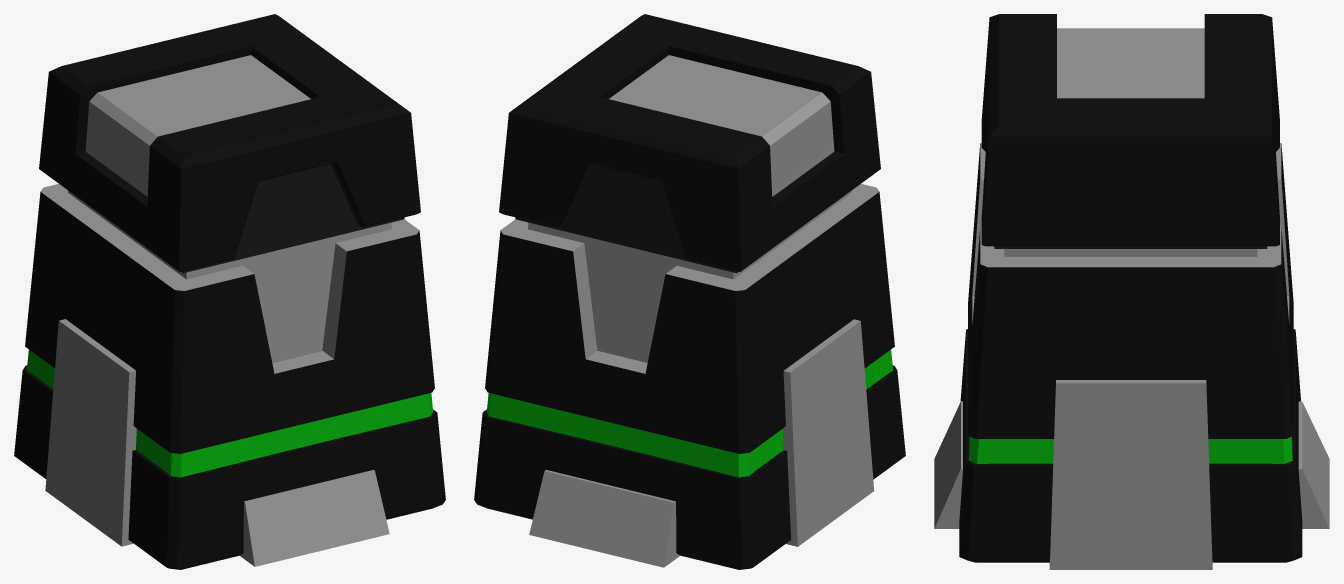
The model's file is Turret.FBX.
3 views of the same model, side by side, from view 1: azimuth 30°, elevation 25°; view 2: azimuth 150°, elevation 25°; view 3: azimuth 270°, elevation 25° (orthographic). The views are drawn at different scales.
Visible parts, largest first — view 1: Box001, Turret, Box010, Box008; view 2: Box001, Turret, Box010, Box007; view 3: Box001, Turret, Box011, Box007, Box008.
Boxes of the visible parts, x1,y1,x2,y2 form: Box001: (14,184,445,569); Turret: (39,14,420,362); Box010: (45,319,136,546); Box008: (239,470,389,566); Box001: (474,184,905,569); Turret: (499,14,880,362); Box010: (783,319,874,546); Box007: (529,470,680,567); Box001: (959,142,1302,562); Turret: (981,14,1279,256); Box011: (1049,380,1212,569); Box007: (1298,401,1329,528); Box008: (934,401,962,528).
Size of the model in its own units: 46.09 by 50.53 by 59.86.
